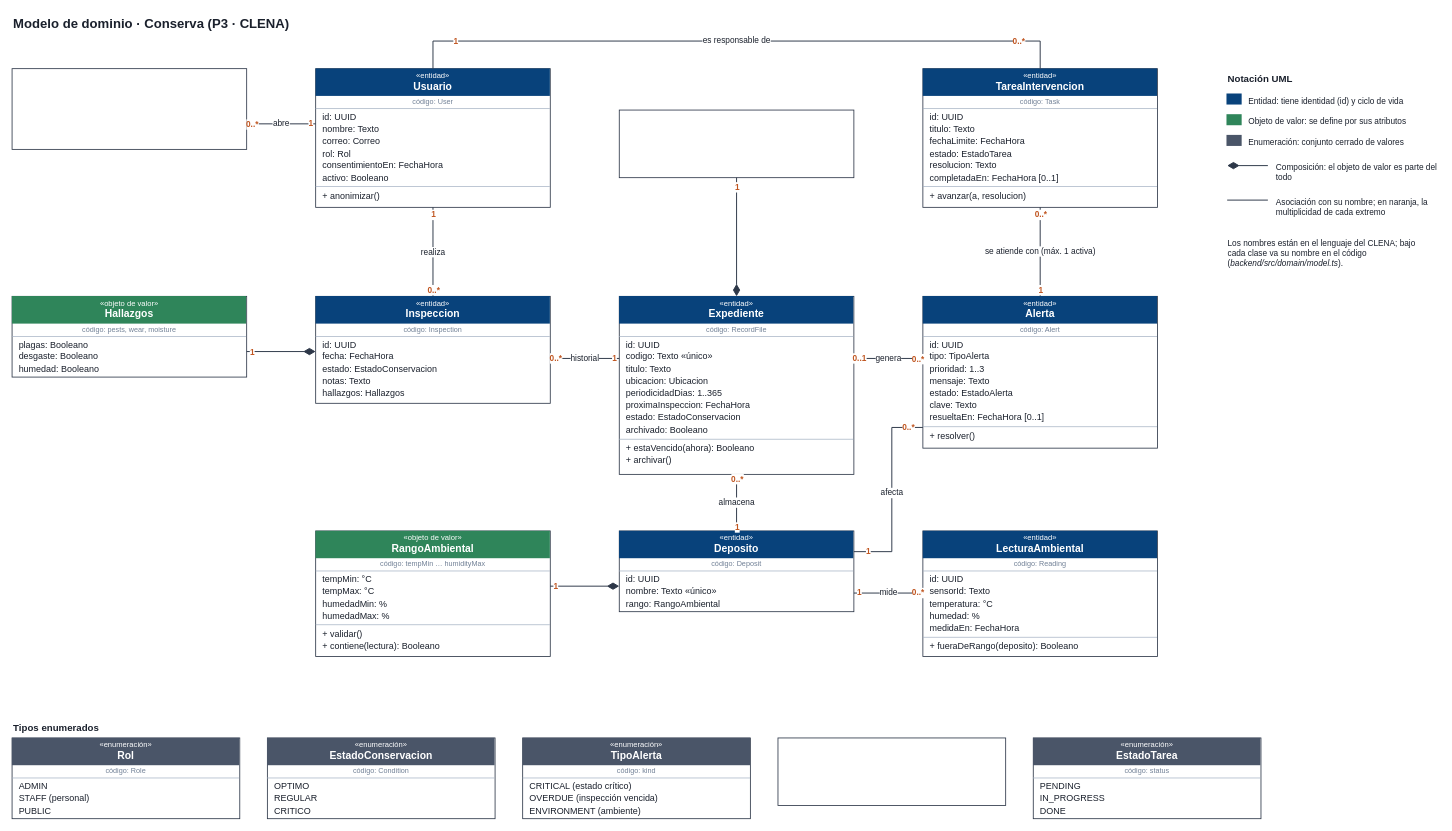
Some shapes in this 1452 by 831 pixel diagram are drawn without their labels. Each missing label, with the centre of its shape:
«entidad» Sesion código: Session id: UUID tokenHash: Texto expiraEn: FechaHora: point 129,108
«enumeración» EstadoAlerta código: status OPEN RESOLVED: point 891,771
«objeto de valor» Ubicacion código: shelf, box estante: Texto caja: Texto: point 736,143
